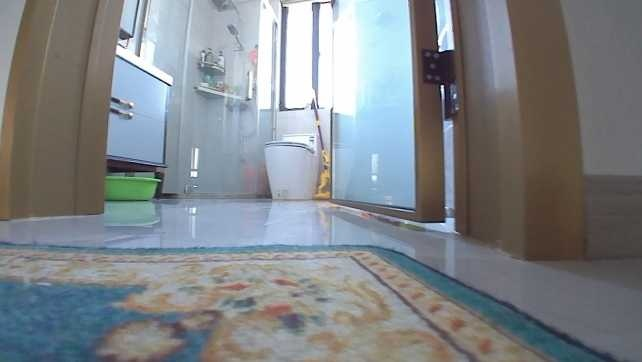blanket: (0, 238, 616, 361)
door_anno_part: (325, 0, 589, 259)
toilet: (260, 131, 320, 202)
washstand: (105, 40, 174, 192)
